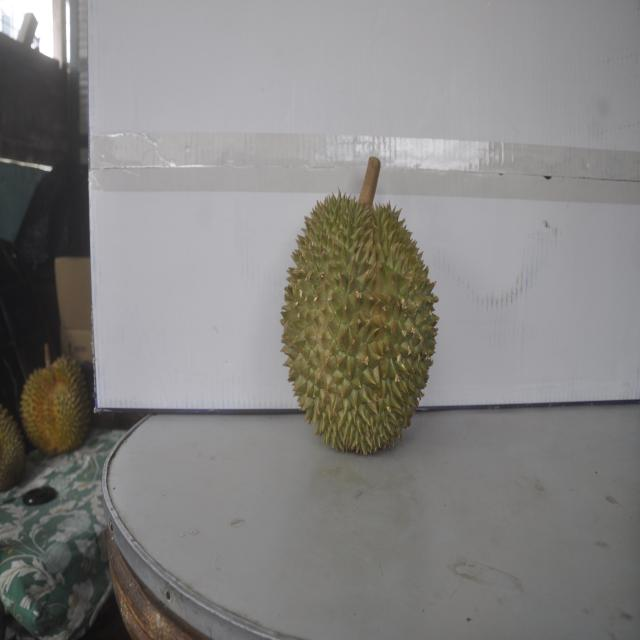mature: (284, 180, 437, 456), (19, 351, 92, 456), (0, 402, 26, 493)
